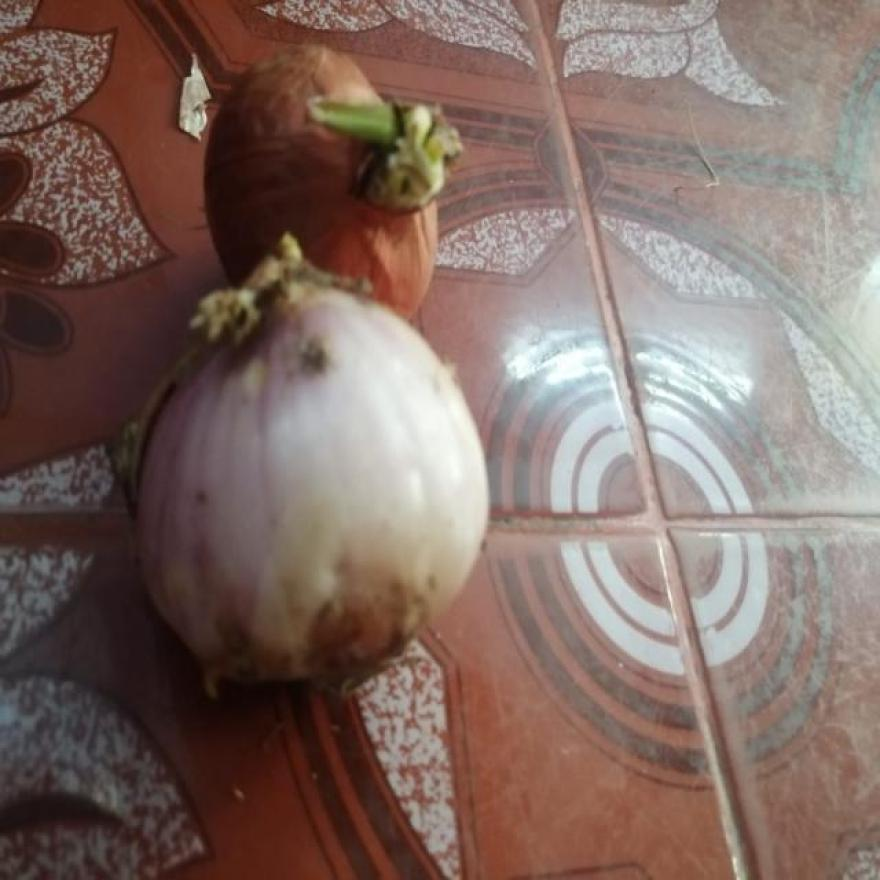Rotten: (178, 580, 402, 690)
Sprouted: (327, 114, 446, 195)
